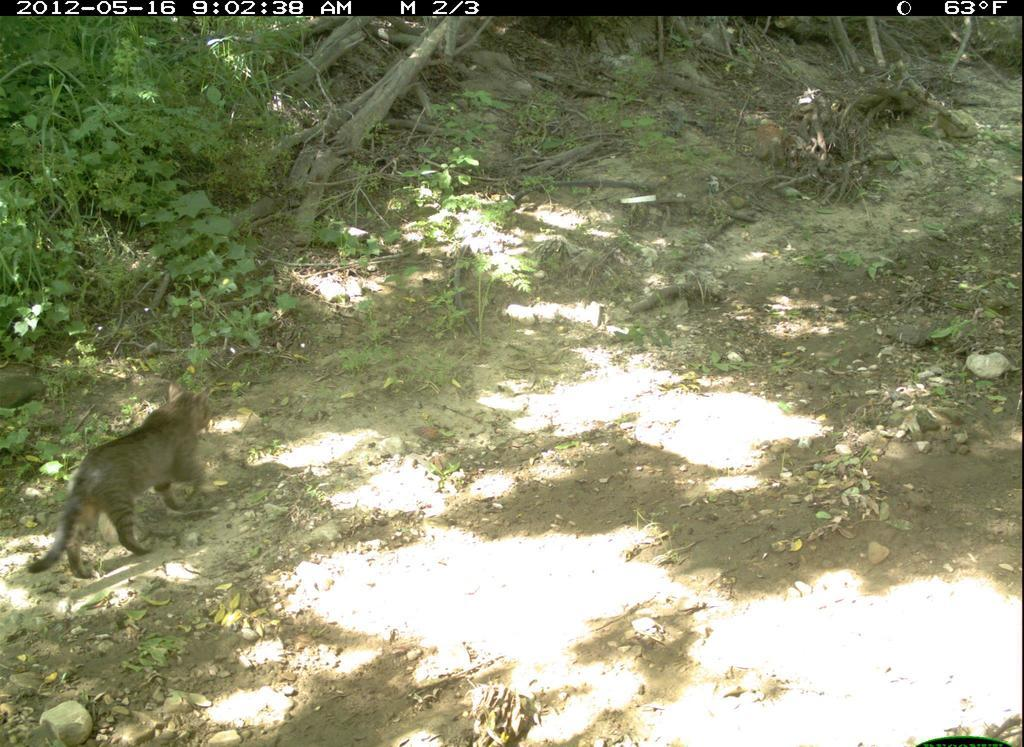cat: (27, 383, 233, 592)
